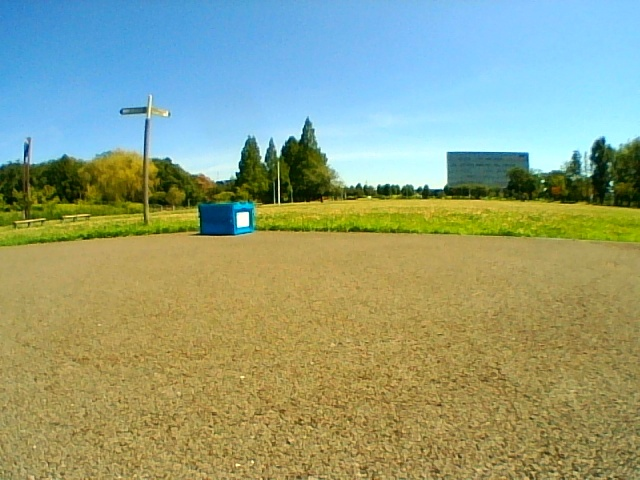blue_box: (200, 203, 252, 235)
tag: (237, 213, 248, 227)
